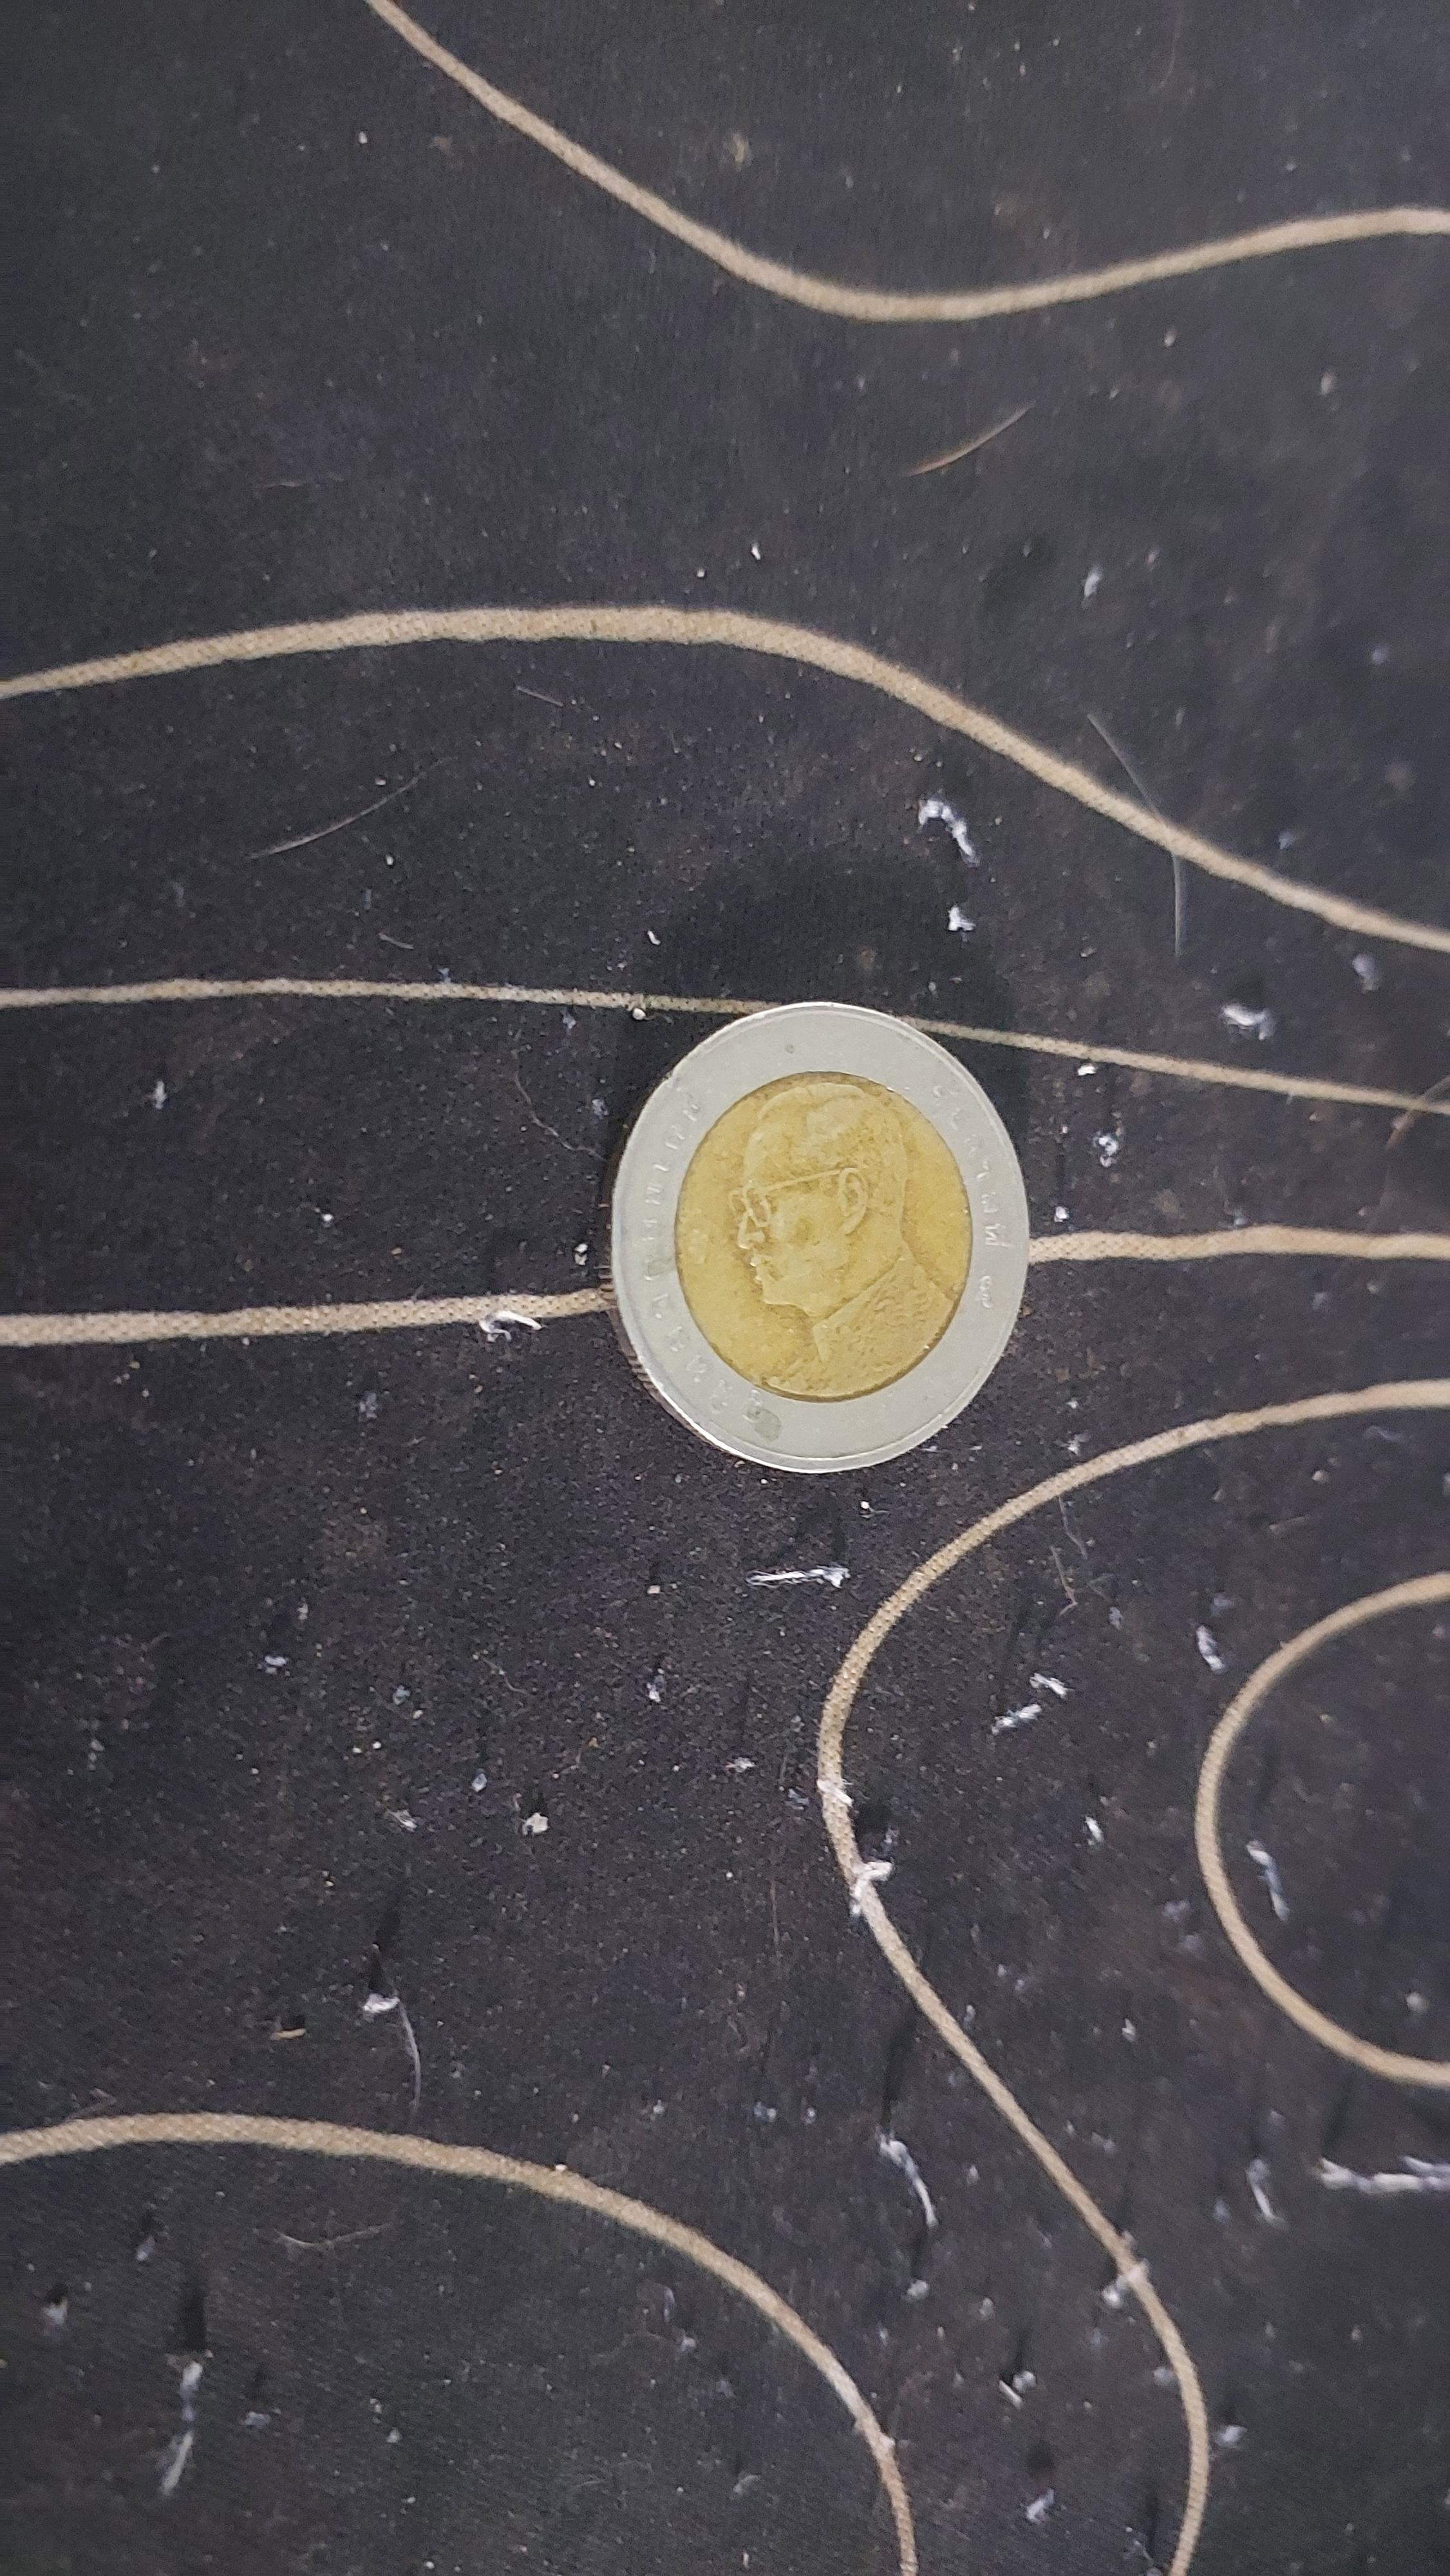10baht: (569, 982, 1118, 1516)
